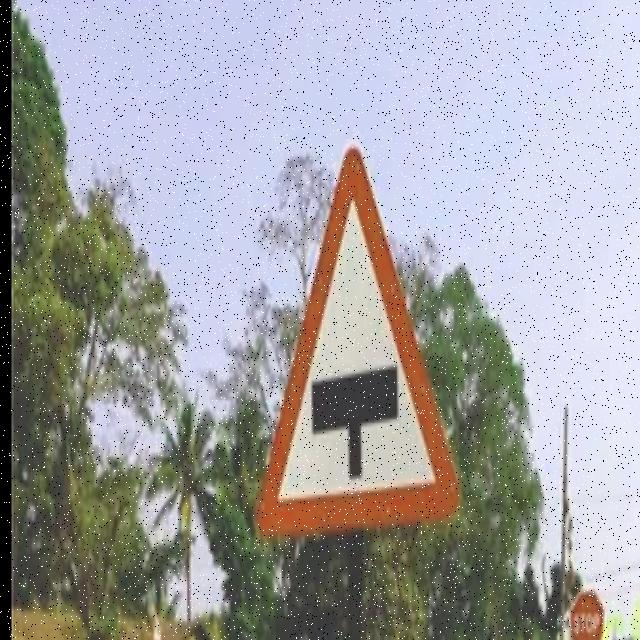stop: (562, 588, 610, 640)
tjunction_major_road_ahead: (252, 142, 466, 550)
